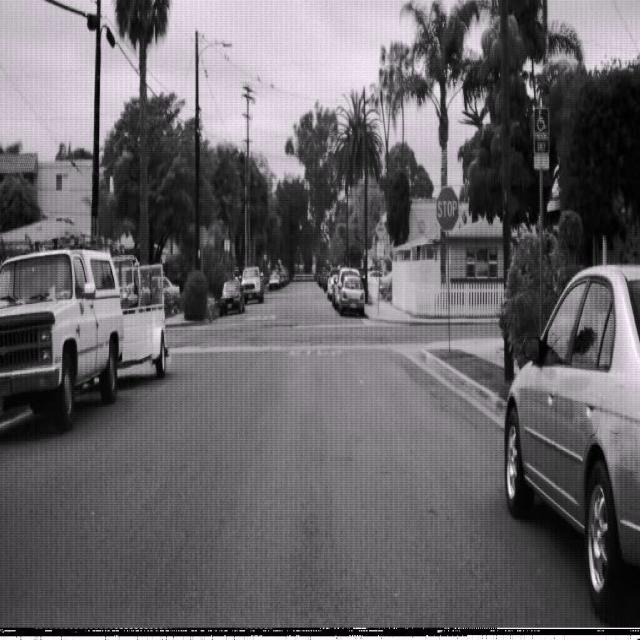stop_sign: (435, 184, 459, 233)
